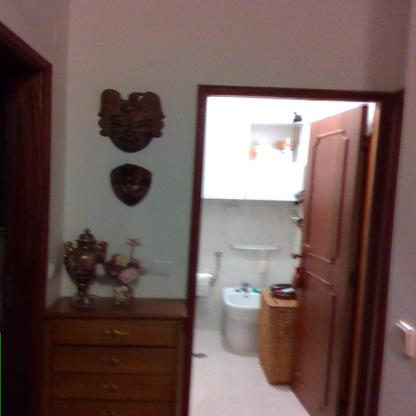open: (168, 75, 410, 411)
